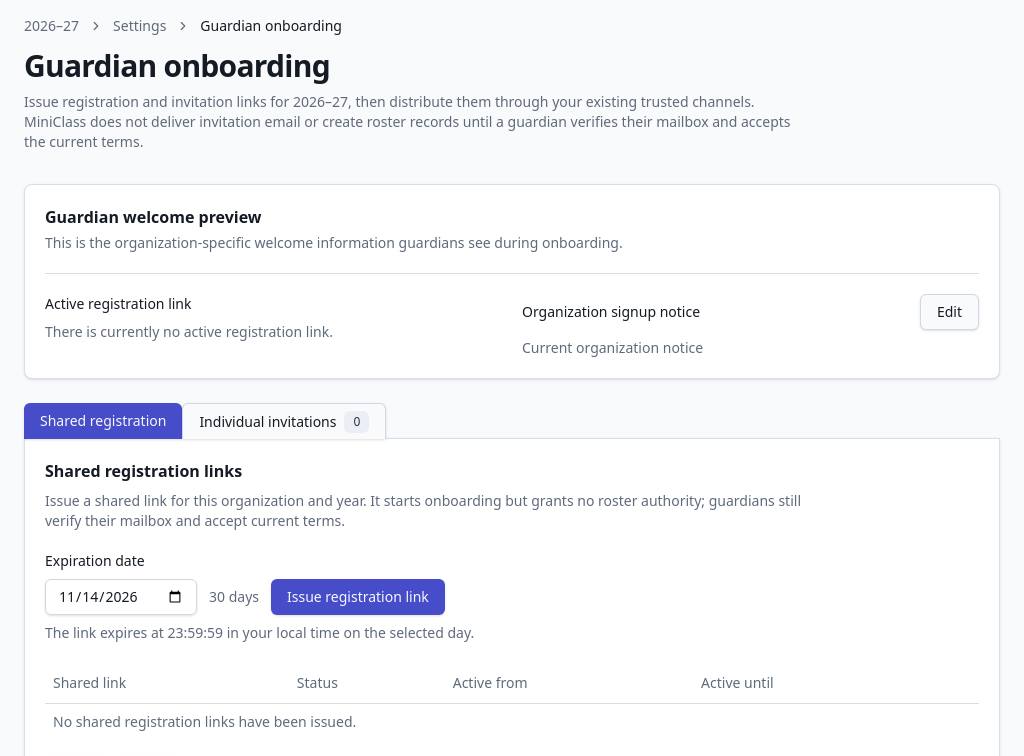
Test: GuardianOnboardingAdminPage › loads the configured organization notice before an organizer edits it
Expected: the text "Current organization notice" is shown, [522, 338, 703, 357]
Click the button "Edit": (949, 312) [920, 294, 979, 330]
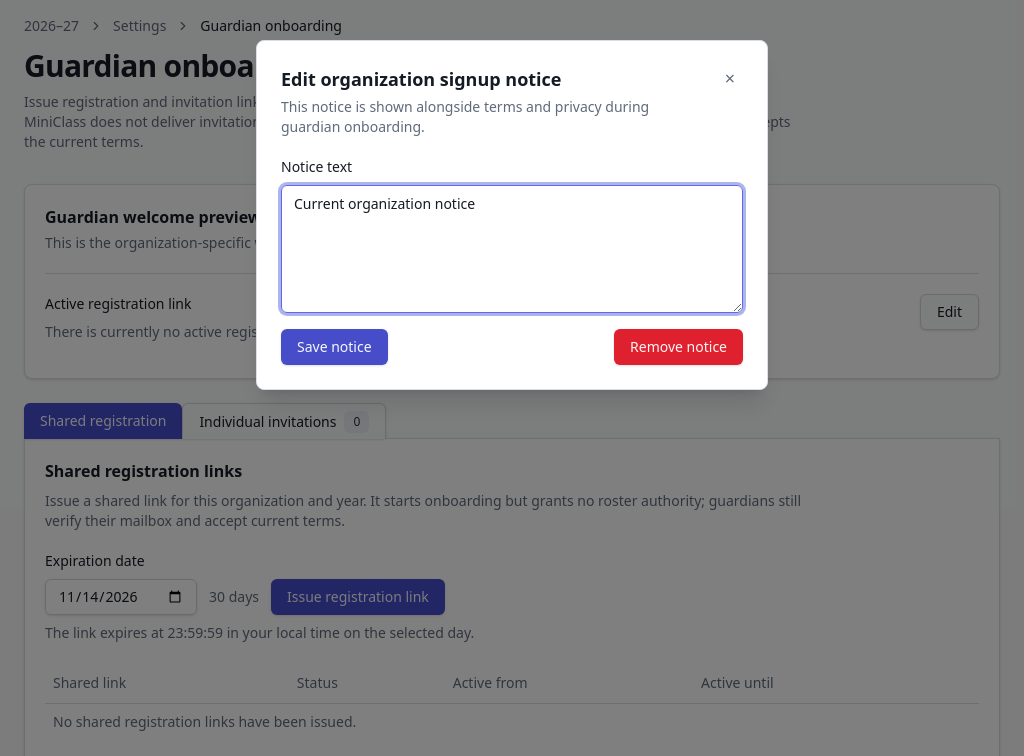
Expected: the text box labelled "Notice text" holds "Current organization notice", [281, 185, 743, 313]
